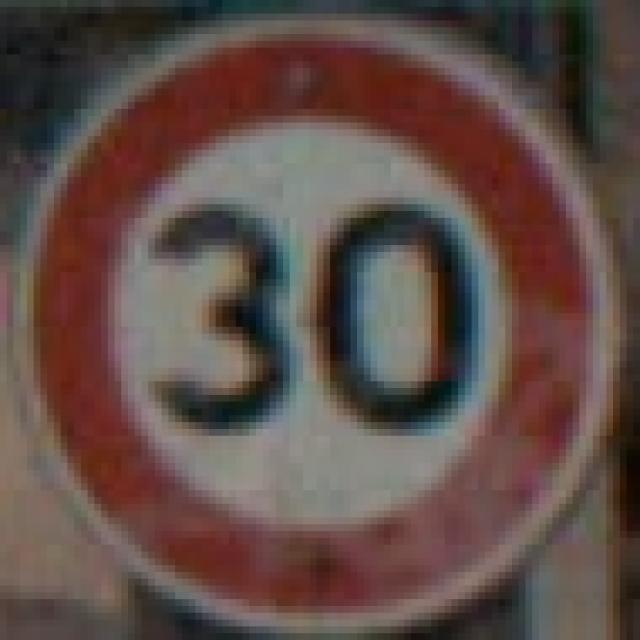speed_30: (0, 0, 633, 633)
